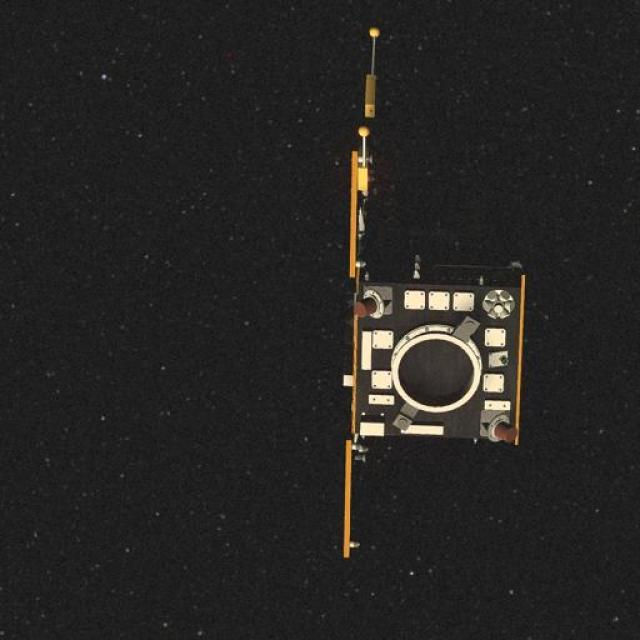proba_2: (325, 12, 554, 562)
